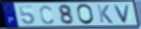5: (18, 5, 36, 25)
8: (59, 4, 75, 25)
C: (39, 5, 55, 25)
K: (96, 4, 115, 24)
O: (76, 4, 96, 26)
V: (113, 4, 132, 24)
